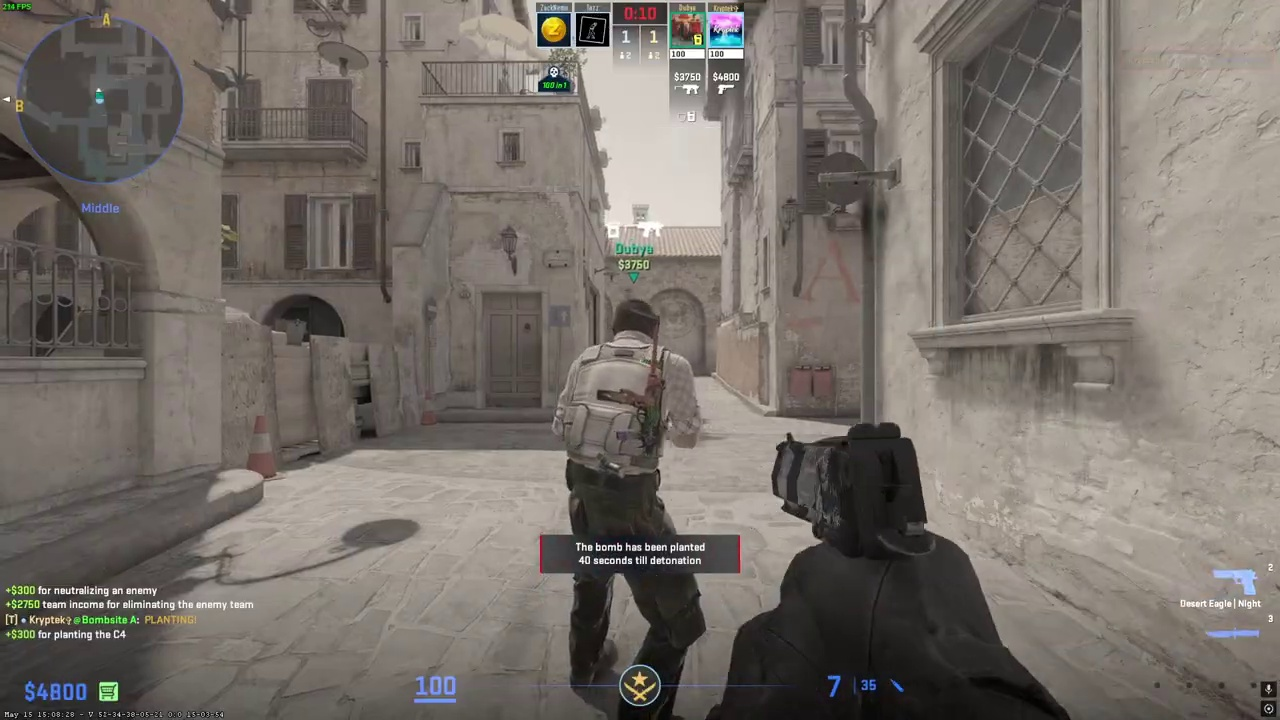Terrorist: (551, 298, 703, 718)
